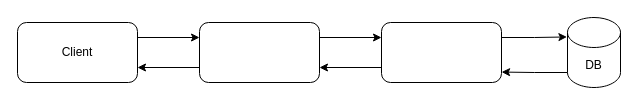
The diagram is 638 pixels wide and 105 high, and some of its shapes have lost their labels. Here are the shapes that lost their labels. From the top down, the centre of each, then its label:
At [259,52]: "Handler".
At [441,52]: "Store".
